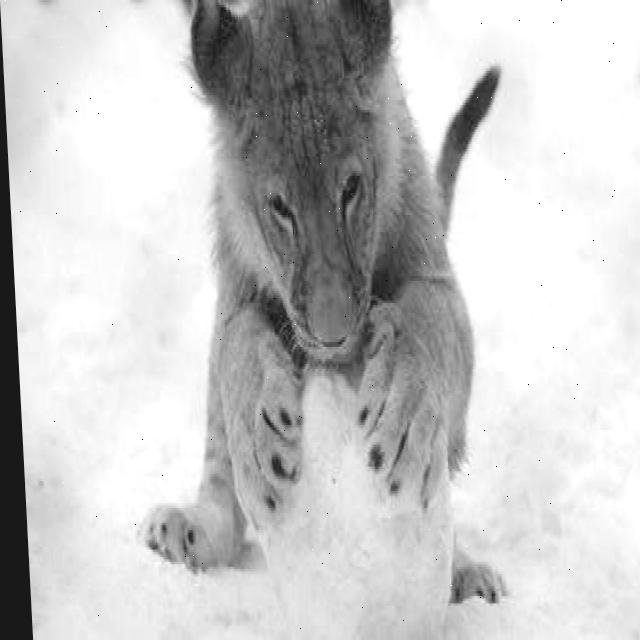Lion: (146, 10, 503, 602)
